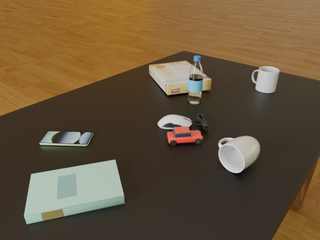book: (24, 160, 124, 224)
bottle: (188, 56, 203, 104)
box: (149, 61, 211, 95)
cup: (219, 136, 260, 173), (252, 66, 279, 93)
mouse: (158, 115, 192, 129)
phone: (40, 131, 93, 146)
toy_car: (167, 126, 203, 146)
